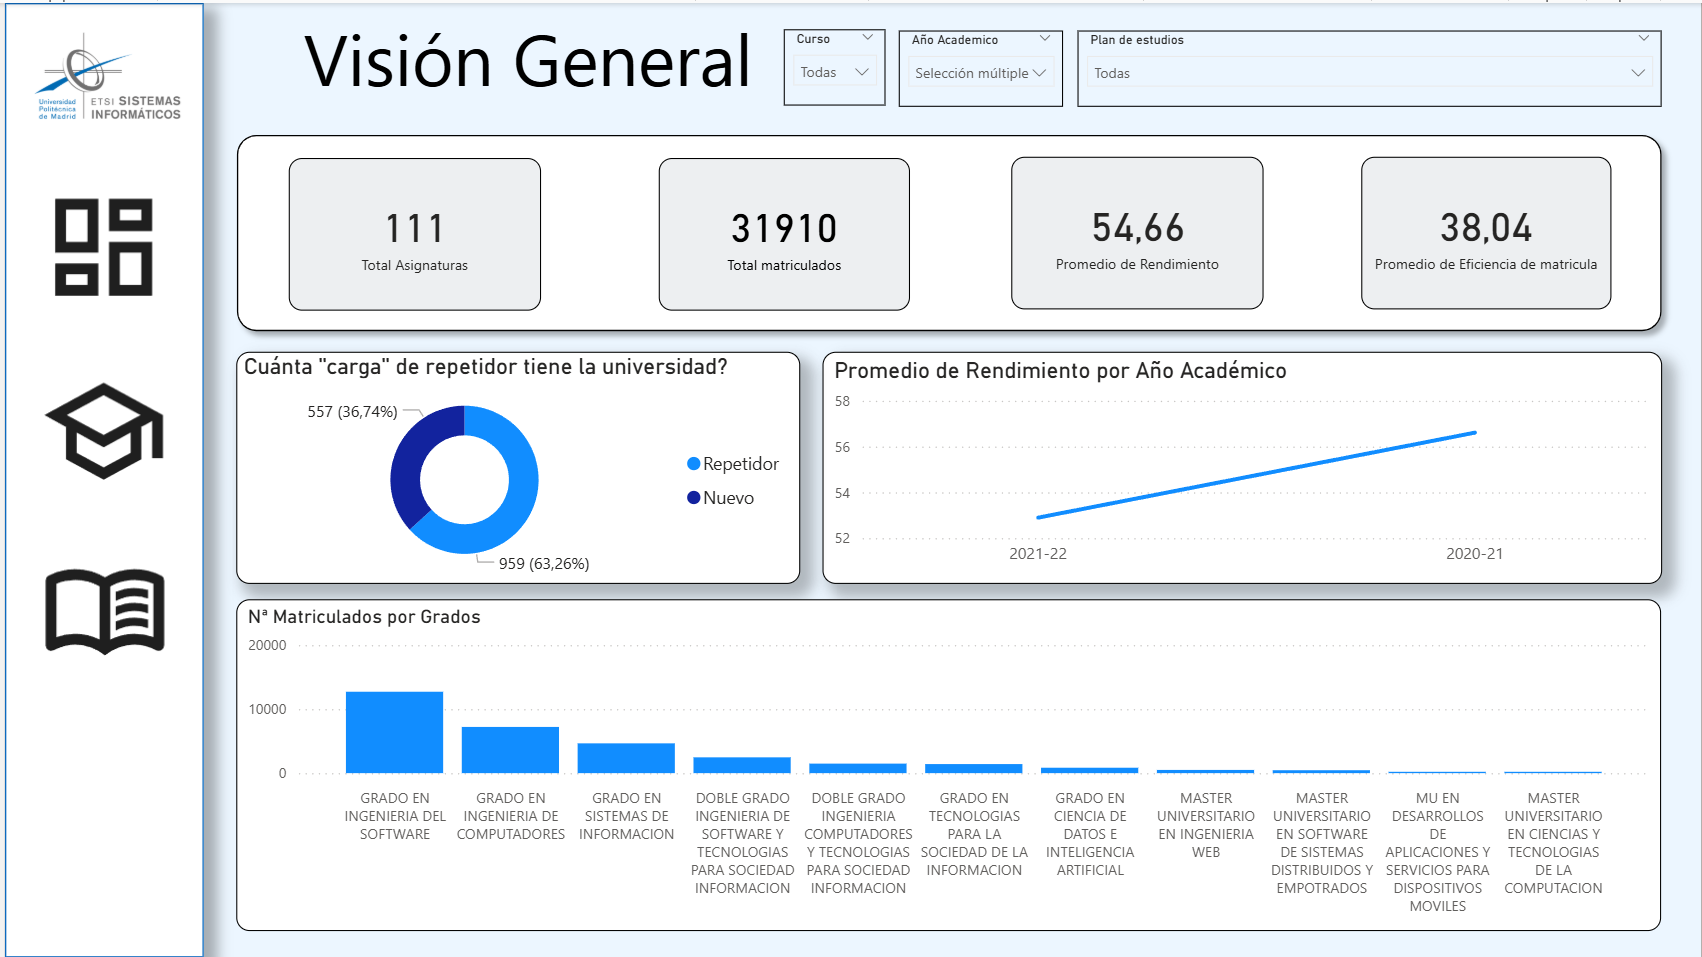

The dashboard page shown, as its layout file describes it:
{"tool":"powerbi","page":{"name":"Página 1","canvas":[1280,720],"ordinal":0},"visuals":[{"type":"shape","box":[166.1,90.5,1093,166.1],"z":0},{"type":"shape","box":[0,0,150,720.3],"z":1000},{"type":"card","fields":{"Values":["Sum(Fact_rendimiento_transformado.N__Matriculados)"]},"box":[232.7,111.6,249.7,114.7],"z":2000},{"type":"slicer","title":"Filtro","fields":{"Values":["dim_tiempo.Anio_Academico"]},"box":[1077.3,19.1,123.2,57.4],"z":3000},{"type":"lineChart","fields":{"Category":["dim_tiempo.Anio_Academico"],"Y":["Avg(Fact_rendimiento_transformado.Rendimiento)","Avg(Fact_rendimiento_transformado.Eficiencia_en_matricula)"]},"box":[175.3,263.5,633.2,389.9],"z":4000},{"type":"card","fields":{"Values":["Avg(Fact_rendimiento_transformado.Rendimiento)"]},"box":[608.8,110.5,249.7,115.8],"z":5000},{"type":"card","fields":{"Values":["Avg(Fact_rendimiento_transformado.Eficiencia_en_matricula)"]},"box":[943.4,111.6,249.7,115.8],"z":6000},{"type":"textbox","box":[214.4,0,361.5,96.6],"z":8000},{"type":"image","box":[0,0,155.6,110.9],"z":9000},{"type":"donutChart","title":"Cuánta \"carga\" de repetidor tiene la universidad?","fields":{"Category":["Fact_rendimiento_transformado.Repetidor_Nuevo"],"Y":["Sum(Fact_rendimiento_transformado.N__Matriculados)"]},"box":[824.4,263.5,425,389.9],"z":10000},{"type":"slicer","title":"Filtro","fields":{"Values":["dim_asignatura.Curso"]},"box":[960.4,18.1,76.5,58.4],"z":11000},{"type":"actionButton","box":[22.4,398.9,105.5,120.8],"z":14000},{"type":"actionButton","box":[21.5,263,105.5,119.9],"z":15000},{"type":"actionButton","box":[21.5,123.4,105.5,120.8],"z":16000}]}

Visuals, with their boxes in screenshot pixels (x1, y1, x2, y2), scaled from the page's 1280x720 canvas onto the 1702x957 screenshot:
shape: rect(221, 120, 1674, 341)
shape: rect(0, 0, 199, 956)
card - Sum(Fact_rendimiento_transformado.N__Matriculados): rect(309, 148, 641, 301)
"Filtro" slicer: rect(1432, 25, 1596, 102)
lineChart - dim_tiempo.Anio_Academico x Avg(Fact_rendimiento_transformado.Rendimiento): rect(233, 350, 1075, 868)
card - Avg(Fact_rendimiento_transformado.Rendimiento): rect(810, 147, 1142, 301)
card - Avg(Fact_rendimiento_transformado.Eficiencia_en_matricula): rect(1254, 148, 1586, 302)
textbox: rect(285, 0, 766, 128)
image: rect(0, 0, 207, 147)
"Cuánta "carga" de repetidor tiene la universidad?" donutChart: rect(1096, 350, 1661, 868)
"Filtro" slicer: rect(1277, 24, 1379, 102)
actionButton: rect(30, 530, 170, 691)
actionButton: rect(29, 350, 169, 509)
actionButton: rect(29, 164, 169, 325)
